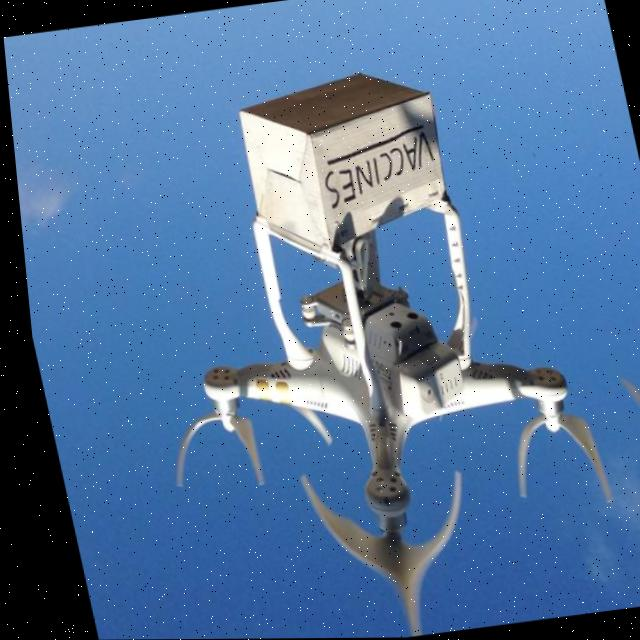drones: (45, 36, 640, 640)
